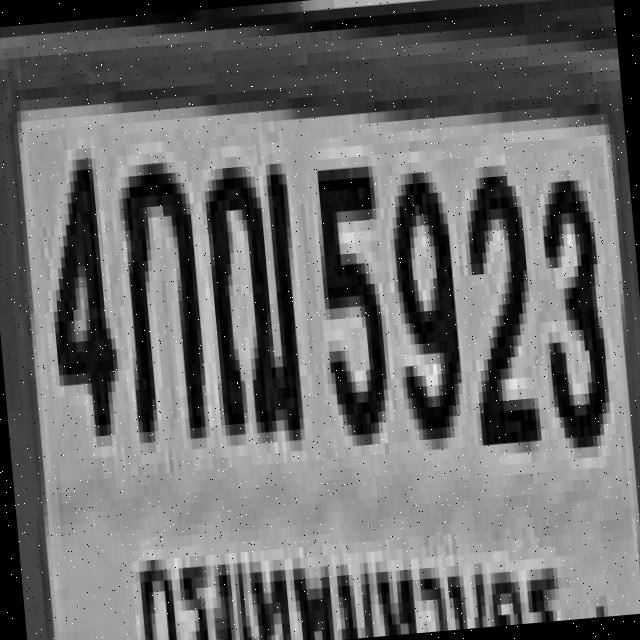10GorGai: (111, 150, 205, 433)
2: (453, 148, 537, 440)
21ChorChoe: (198, 152, 304, 436)
3: (530, 168, 608, 438)
4: (35, 146, 118, 428)
5: (308, 155, 391, 437)
9: (383, 160, 461, 430)
